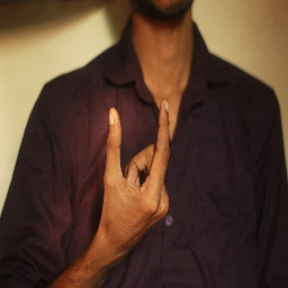U: (101, 94, 180, 243)
